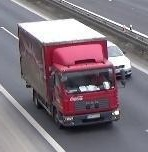car: (105, 40, 131, 79)
